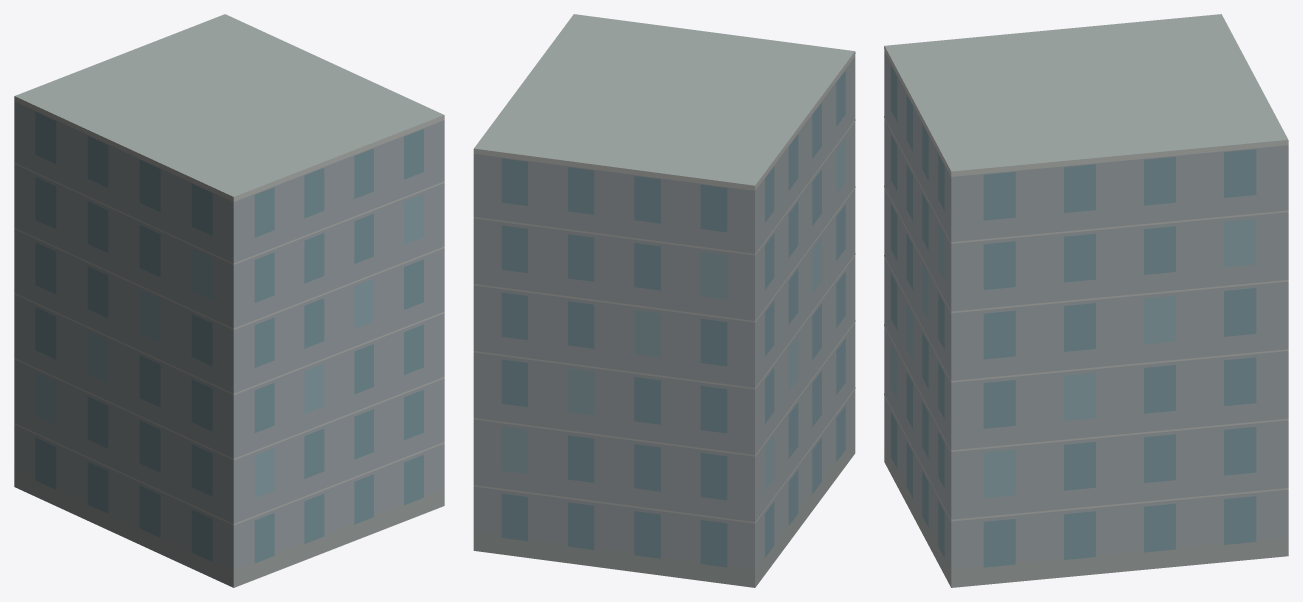
The model's file is survey-upis-32867667.glb.
The picture shows the model from 3 angles, left to right: view 1: azimuth 30°, elevation 25°; view 2: azimuth 150°, elevation 25°; view 3: azimuth 270°, elevation 25°; orthographic projection. The views are drawn at different scales.
Visible parts, largest first — view 1: survey-upis-32867667.tmp; view 2: survey-upis-32867667.tmp; view 3: survey-upis-32867667.tmp.
Boxes of the visible parts, x1,y1,x2,y2 form: survey-upis-32867667.tmp: (14, 14, 444, 587); survey-upis-32867667.tmp: (473, 14, 855, 587); survey-upis-32867667.tmp: (884, 14, 1288, 587).
Size of the model in its own units: 15.37 by 18.9 by 16.65.
